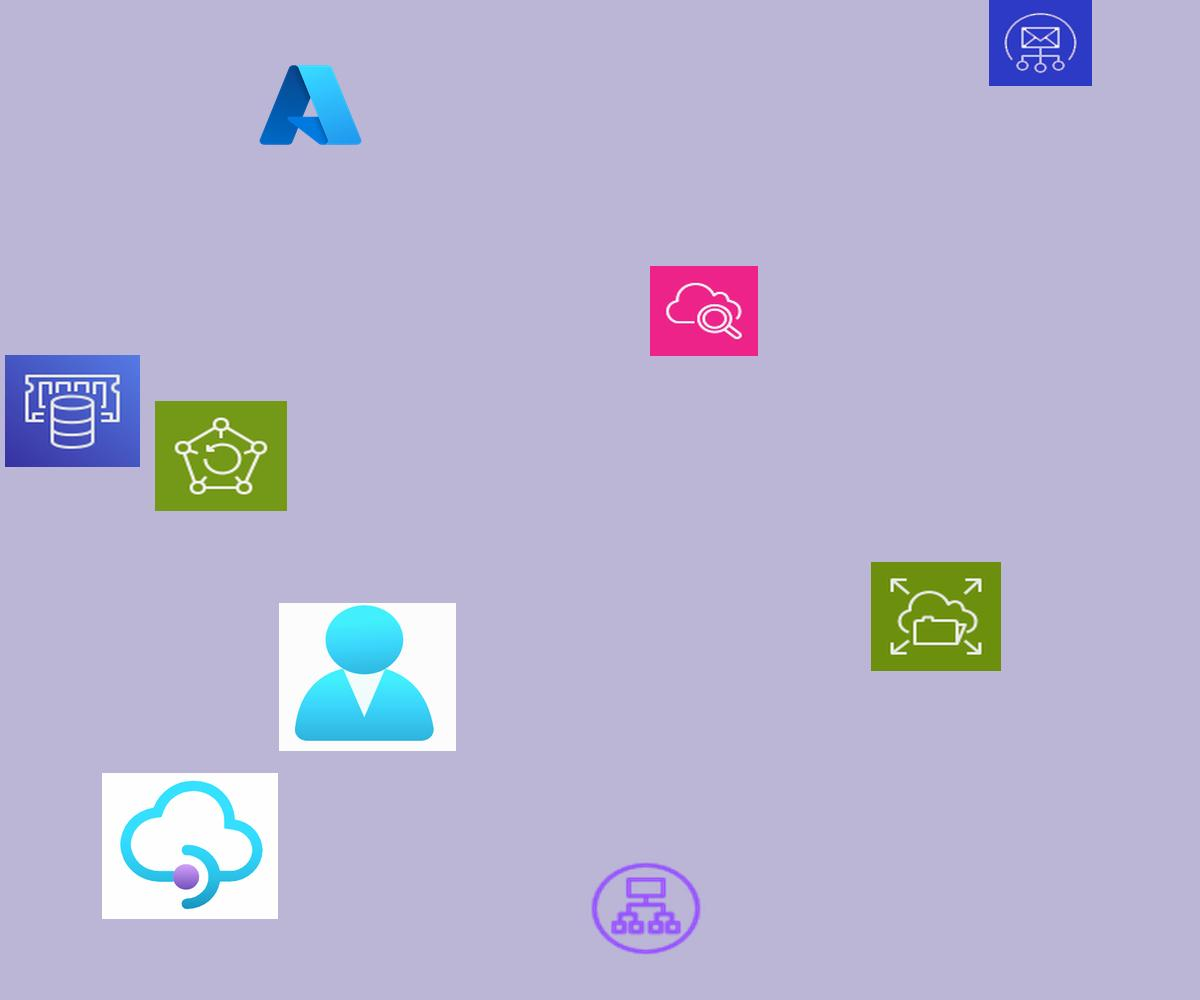AWS-Backup: (155, 401, 287, 511)
AWS-CloudWatch: (650, 266, 758, 356)
AWS-EFS: (871, 562, 1001, 671)
AWS-ElastiCache: (5, 355, 140, 467)
AWS-Res_Elastic-Load-Balancing_Application-Load-Balancer: (587, 859, 705, 958)
AWS-Simple-Email-Service: (989, 0, 1092, 86)
Azure_api_gateway: (102, 773, 278, 919)
Azure_services: (255, 59, 366, 151)
Azure_users: (279, 603, 456, 751)
